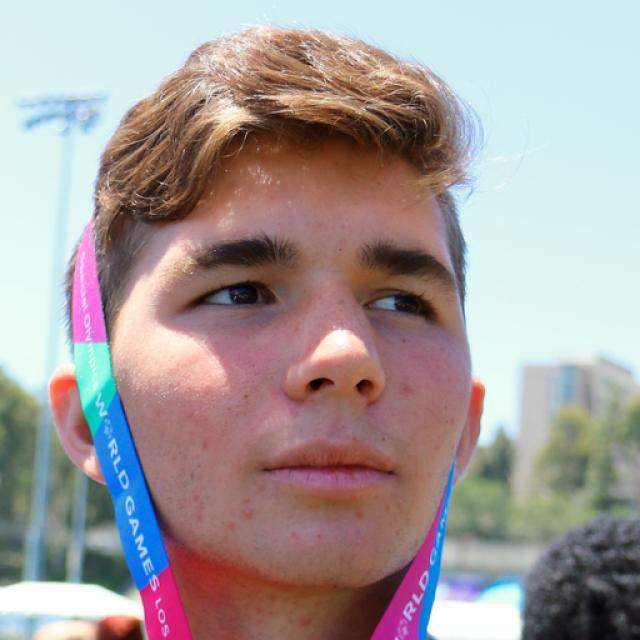sad: (120, 132, 471, 588)
